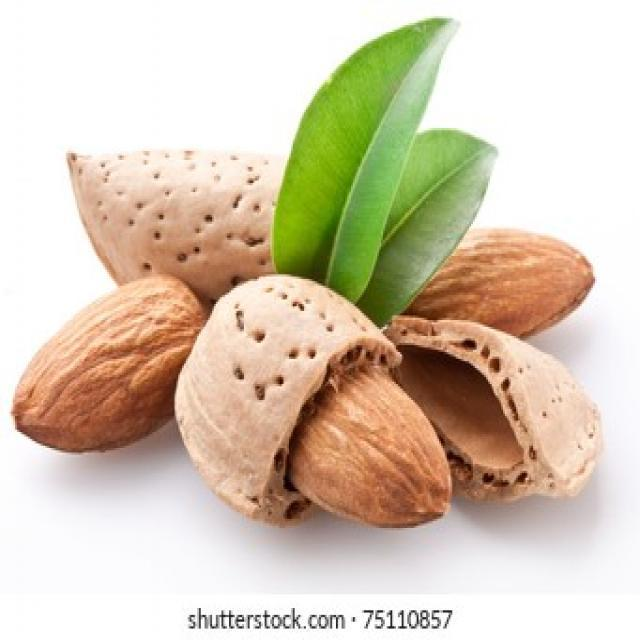almond: (15, 277, 207, 453), (290, 365, 450, 520), (407, 225, 597, 340)
